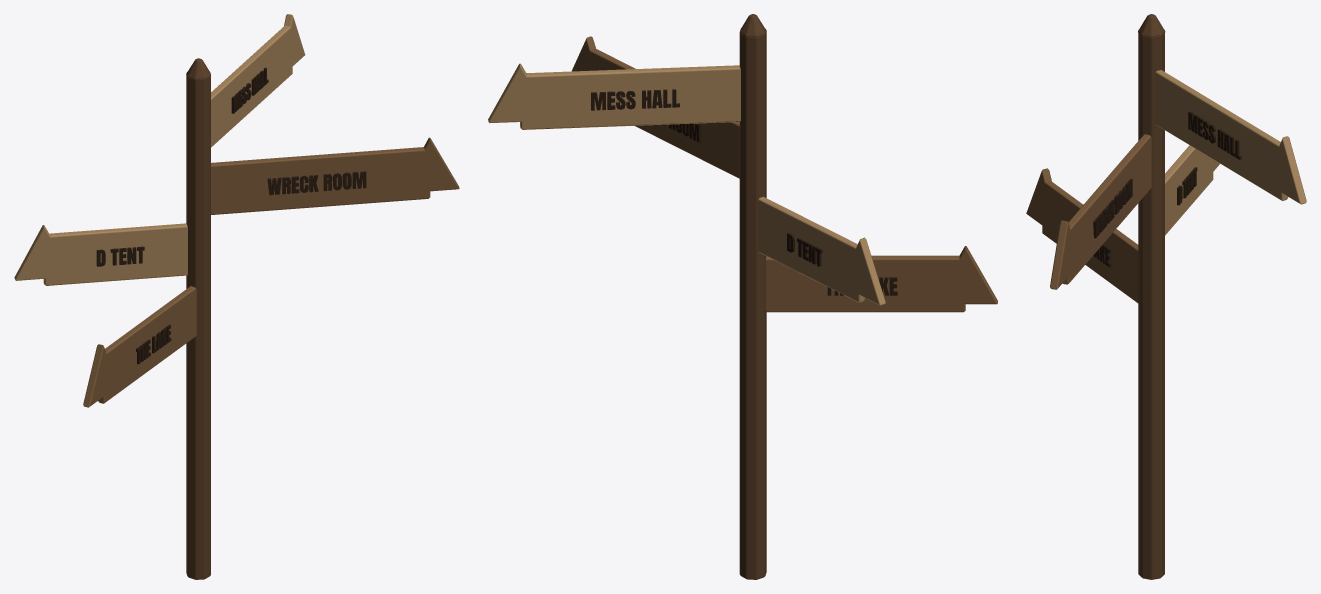
Rendered from SignDirections.glb.
The picture shows the model from 3 angles, left to right: view 1: azimuth 30°, elevation 25°; view 2: azimuth 150°, elevation 25°; view 3: azimuth 270°, elevation 25°; orthographic projection. The views are drawn at different scales.
Visible parts, largest first — view 1: SignDirections.001; view 2: SignDirections.001; view 3: SignDirections.001.
Part boxes in pixels (bbox=[...]): SignDirections.001: bbox=[14, 14, 459, 579]; SignDirections.001: bbox=[488, 14, 997, 579]; SignDirections.001: bbox=[1026, 14, 1306, 579].
Size of the model in its own units: 2.41 by 3.08 by 1.4.
